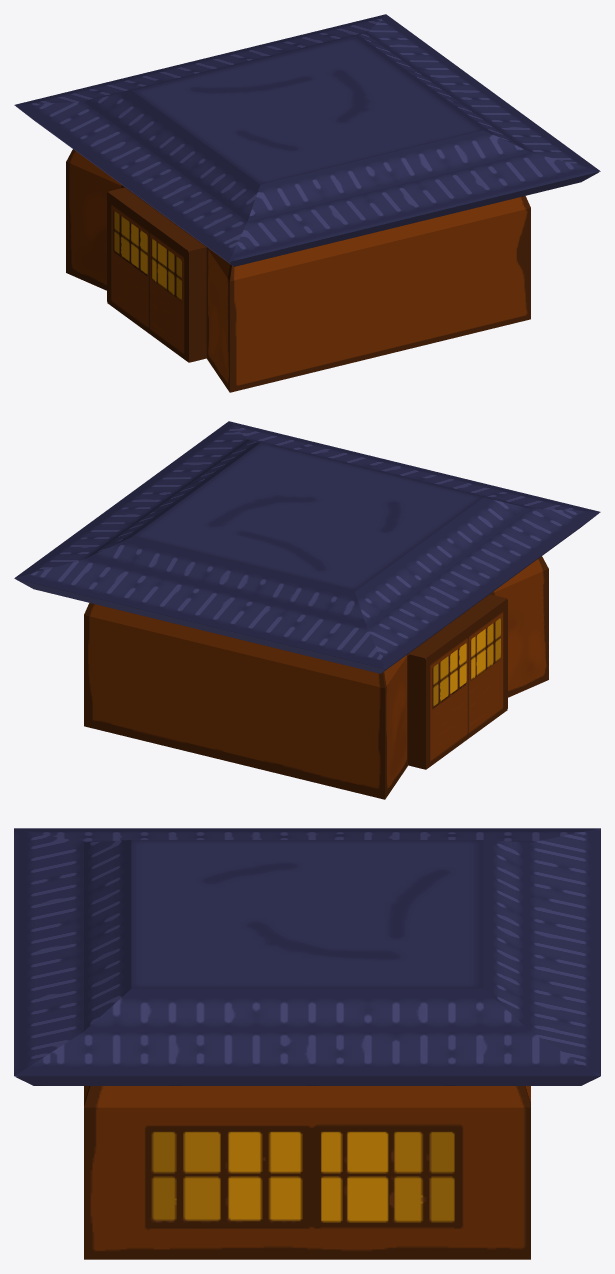
Rendered from Japan_Building_Traditional_01.fbx.
3 views of the same model, one above another, from view 1: azimuth 30°, elevation 25°; view 2: azimuth 150°, elevation 25°; view 3: azimuth 270°, elevation 25° (orthographic). The views are drawn at different scales.
Parts seen in each view (by area): view 1: cuboid; view 2: cuboid; view 3: cuboid.
Part boxes in pixels (x1,y1,x2,y2): cuboid: (14, 14, 600, 392); cuboid: (14, 421, 600, 799); cuboid: (14, 828, 600, 1259).
Bounding box in the file's own units: 131 × 61.88 × 131.
1 material, 1 textured.
